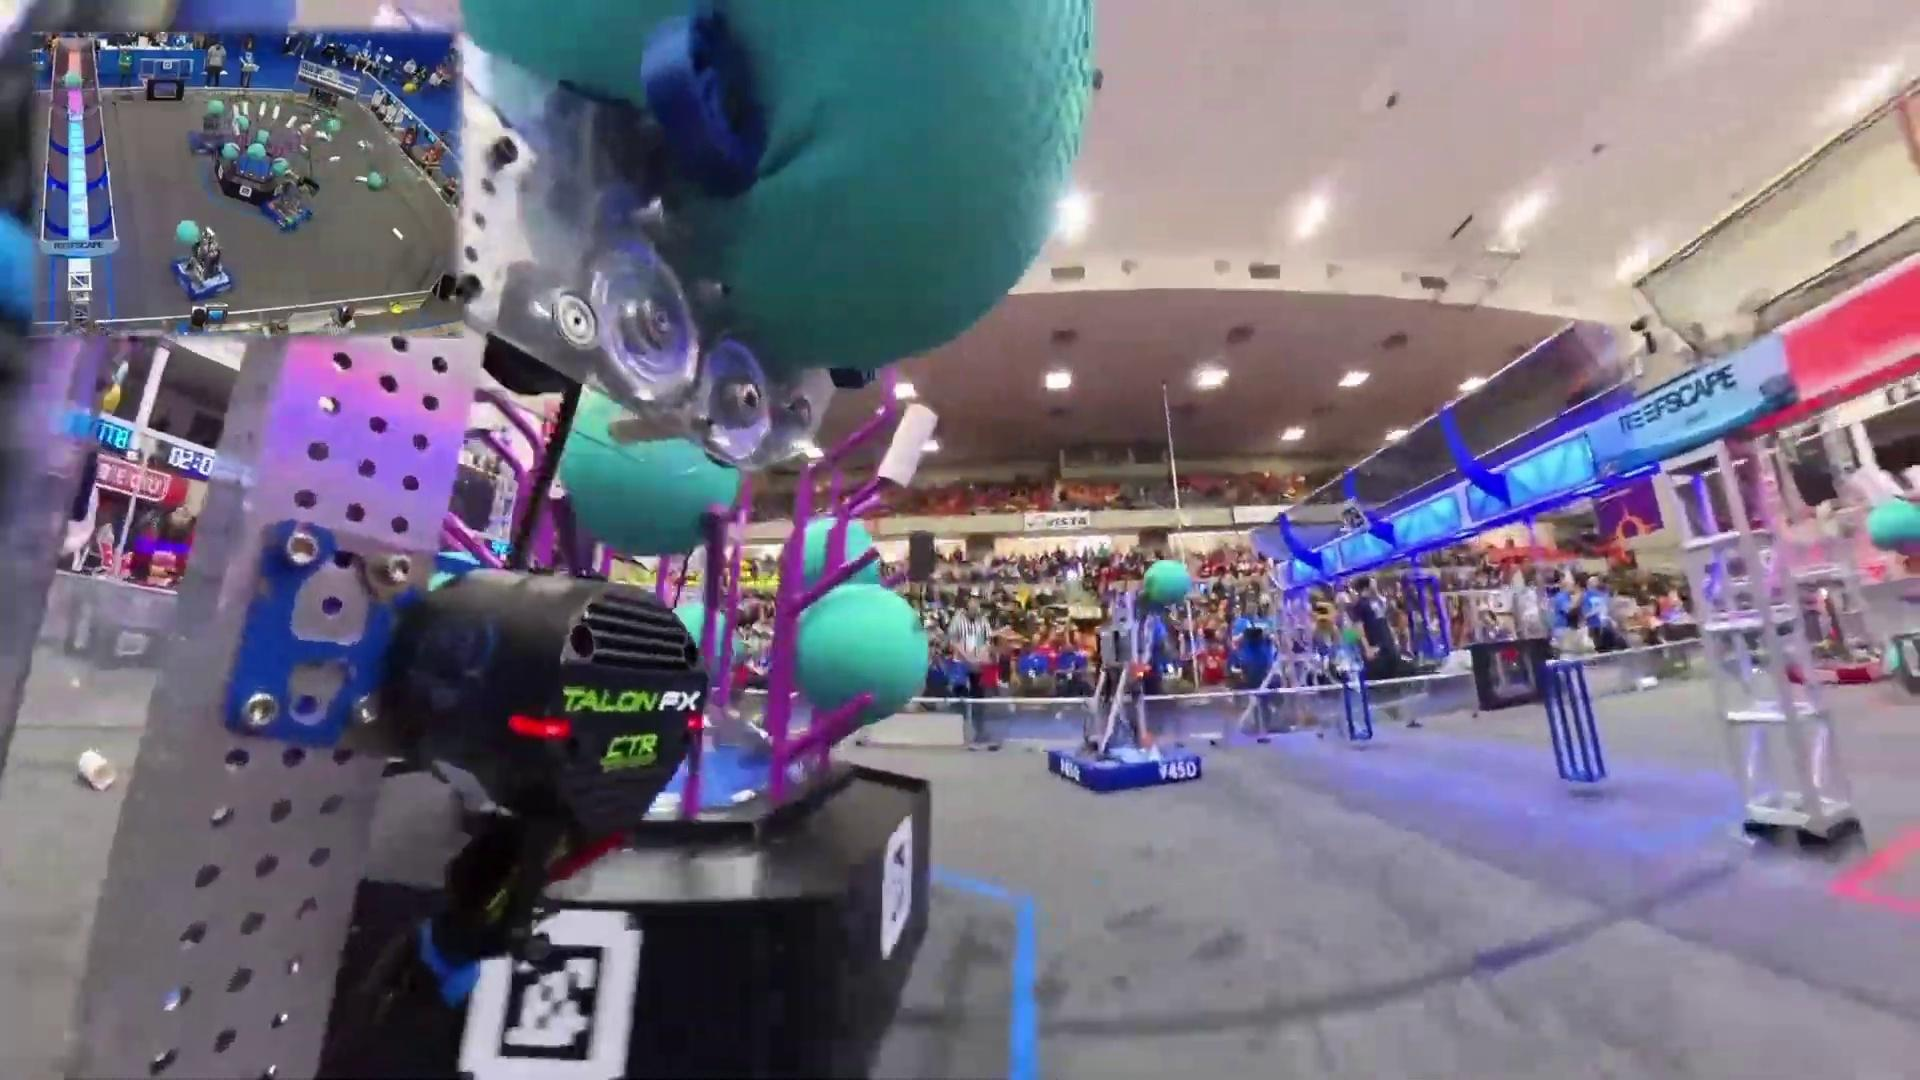robot: (1048, 596, 1201, 794), (1787, 582, 1894, 687), (173, 222, 233, 297), (262, 170, 316, 235), (187, 115, 225, 158)
